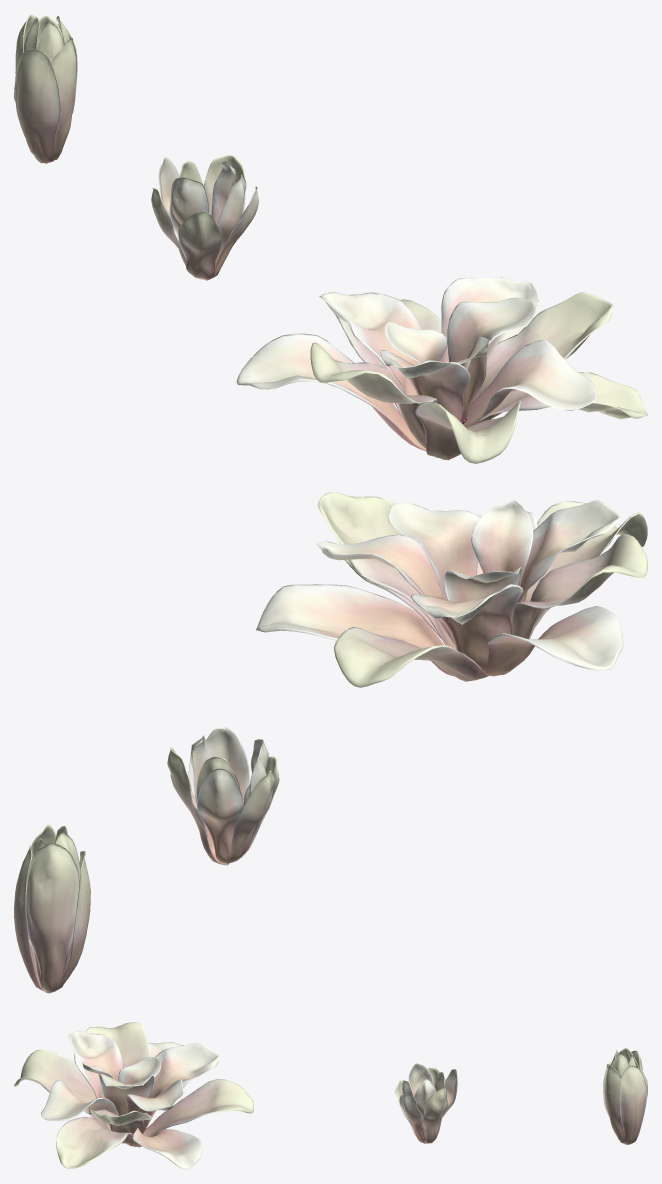
The model's file is magnoliaBlossoms01.fbx.
The picture shows the model from 3 angles, top to bottom: view 1: azimuth 30°, elevation 25°; view 2: azimuth 150°, elevation 25°; view 3: azimuth 270°, elevation 25°; orthographic projection. The views are drawn at different scales.
Parts seen in each view (by area): view 1: magnoliaBlossom01, magnoliaBlossomHalfOpen01, magnoliaBlossomClosed01; view 2: magnoliaBlossom01, magnoliaBlossomClosed01, magnoliaBlossomHalfOpen01; view 3: magnoliaBlossom01, magnoliaBlossomHalfOpen01, magnoliaBlossomClosed01.
Boxes of the visible parts, x1=… form: magnoliaBlossom01: x1=236, y1=277, x2=647, y2=463; magnoliaBlossomHalfOpen01: x1=151, y1=155, x2=258, y2=280; magnoliaBlossomClosed01: x1=14, y1=14, x2=77, y2=163; magnoliaBlossom01: x1=256, y1=492, x2=647, y2=687; magnoliaBlossomClosed01: x1=14, y1=824, x2=90, y2=993; magnoliaBlossomHalfOpen01: x1=167, y1=726, x2=279, y2=865; magnoliaBlossom01: x1=14, y1=1022, x2=253, y2=1169; magnoliaBlossomHalfOpen01: x1=395, y1=1062, x2=457, y2=1143; magnoliaBlossomClosed01: x1=603, y1=1048, x2=647, y2=1144.
Size of the model in its own units: 9.48 by 4.14 by 25.45.
Materials: 3 (3 with a texture image).
